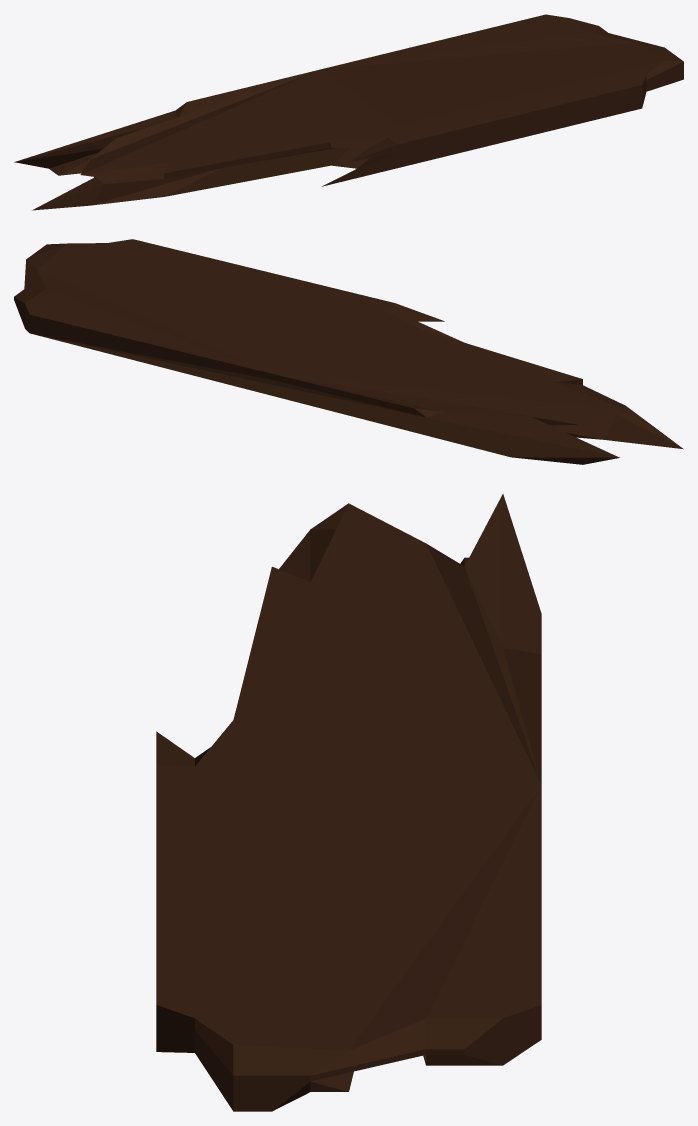
Rendered from splinter_1.FBX.
3 renders of one model, top to bottom at view 1: azimuth 30°, elevation 25°; view 2: azimuth 150°, elevation 25°; view 3: azimuth 270°, elevation 25°, orthographic. The views are drawn at different scales.
Visible parts, largest first — view 1: splinter_1; view 2: splinter_1; view 3: splinter_1.
Boxes of the visible parts, <box> form: splinter_1: <box>14,14,683,210</box>; splinter_1: <box>14,239,683,464</box>; splinter_1: <box>156,494,541,1111</box>.
Size of the model in its own units: 91.49 by 4.1 by 24.47.
